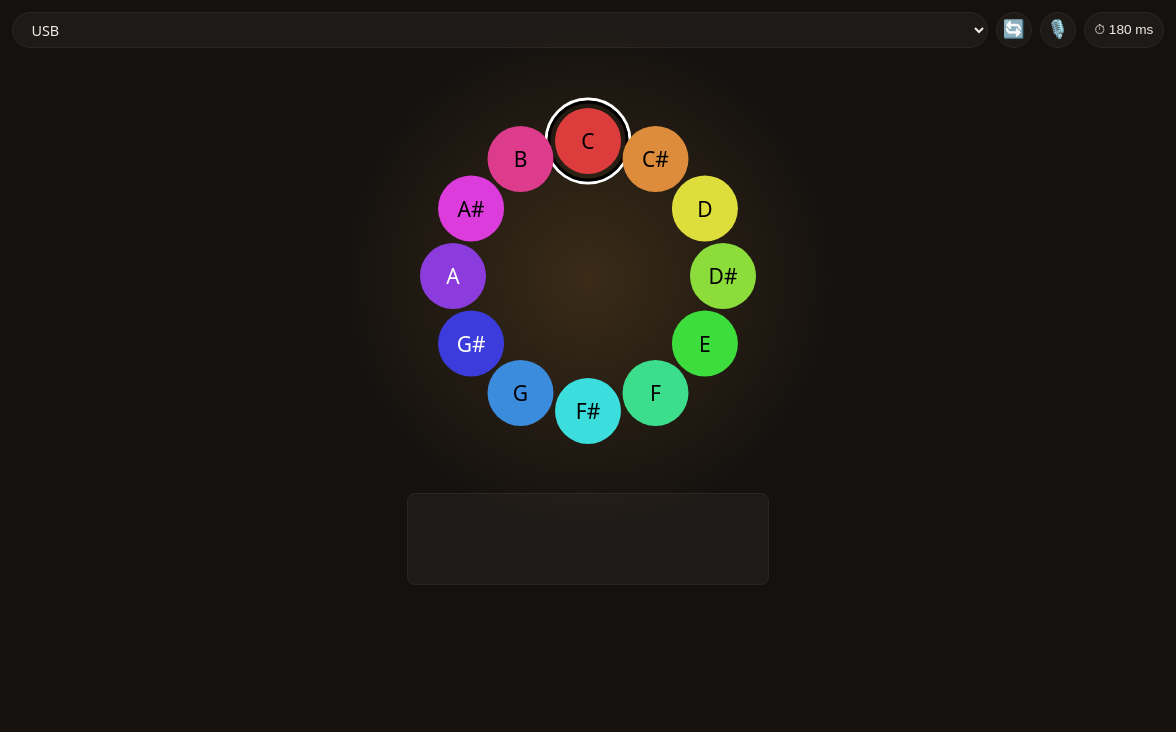
Scenario: InputLane › latency › toggles the latency panel from the header button
This screenshot has width=1176, height=732.
Expected: the slider labelled "Atraso" is not shown
Click the button with aria-label "Atraso da entrada" at (1124, 30), box [1084, 12, 1164, 48]
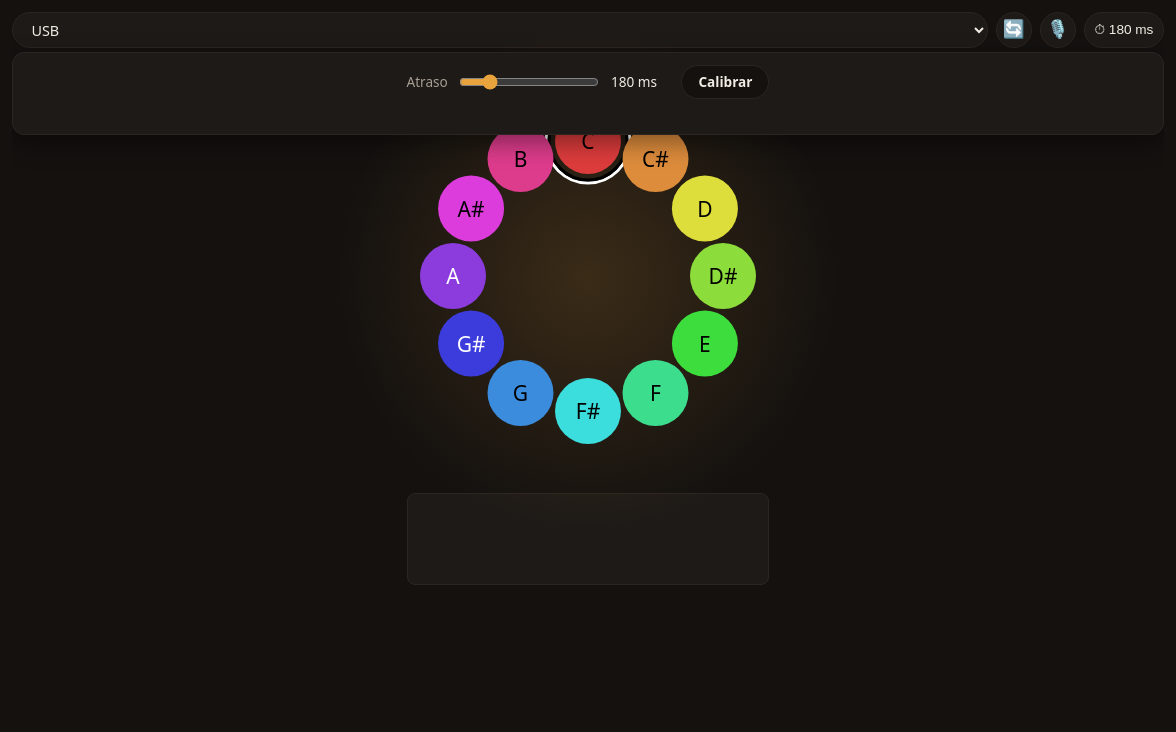
Result: the slider labelled "Atraso" holds "180" at [459, 74, 599, 90]
Result: the text "180 ms" is shown at [611, 72, 657, 91]
Result: the button "Calibrar" is shown at [681, 65, 770, 99]
Click the button with aria-label "Atraso da entrada" at (1124, 30), box [1084, 12, 1164, 48]
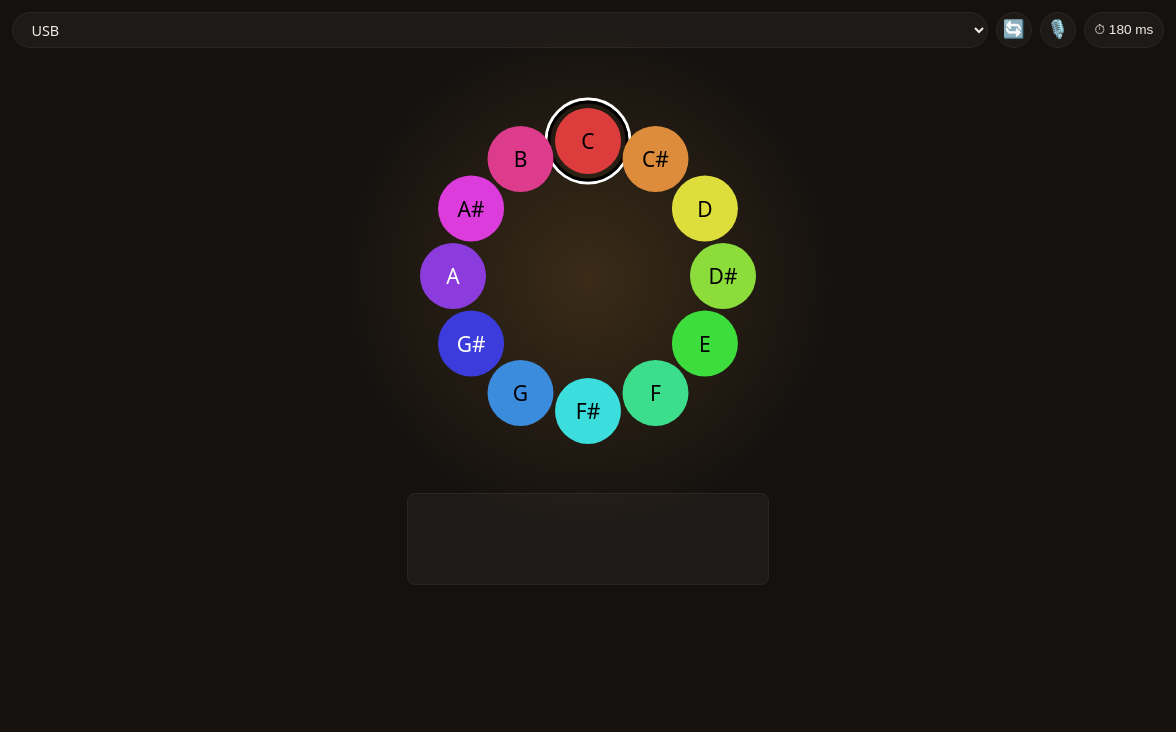
Result: the text "Atraso" is gone
